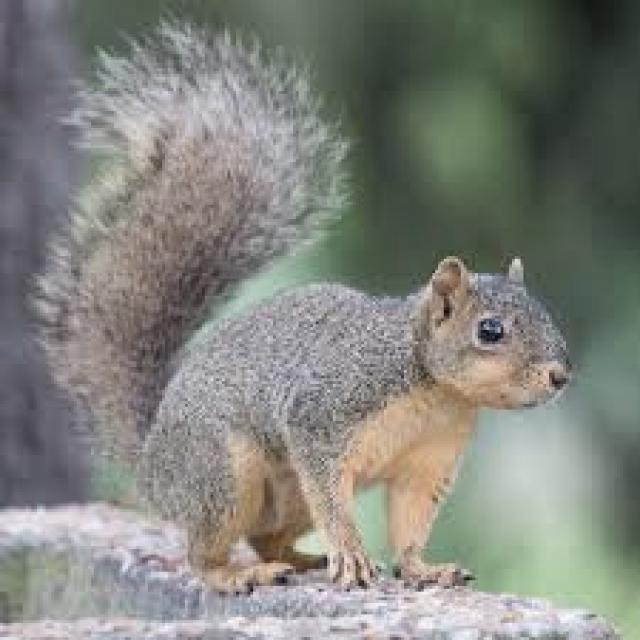squirrel: (34, 17, 566, 589)
